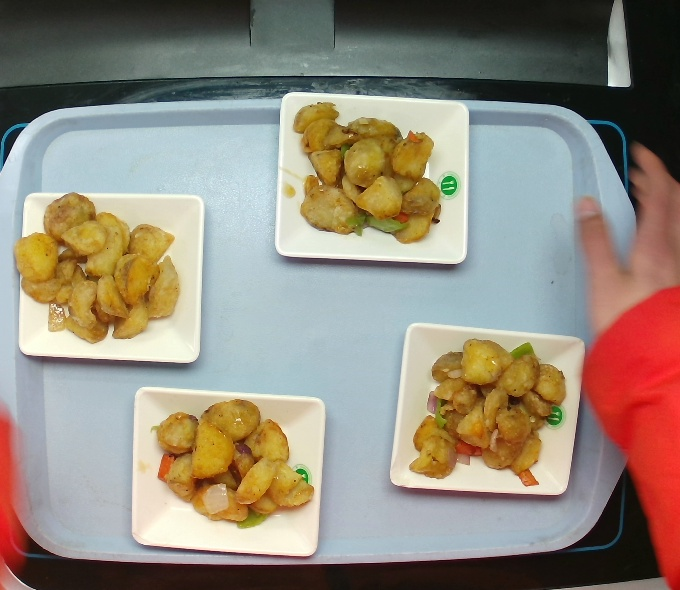wcq-TuDouZai: (5, 185, 192, 346), (289, 89, 450, 254), (153, 385, 311, 538), (405, 338, 563, 488)
